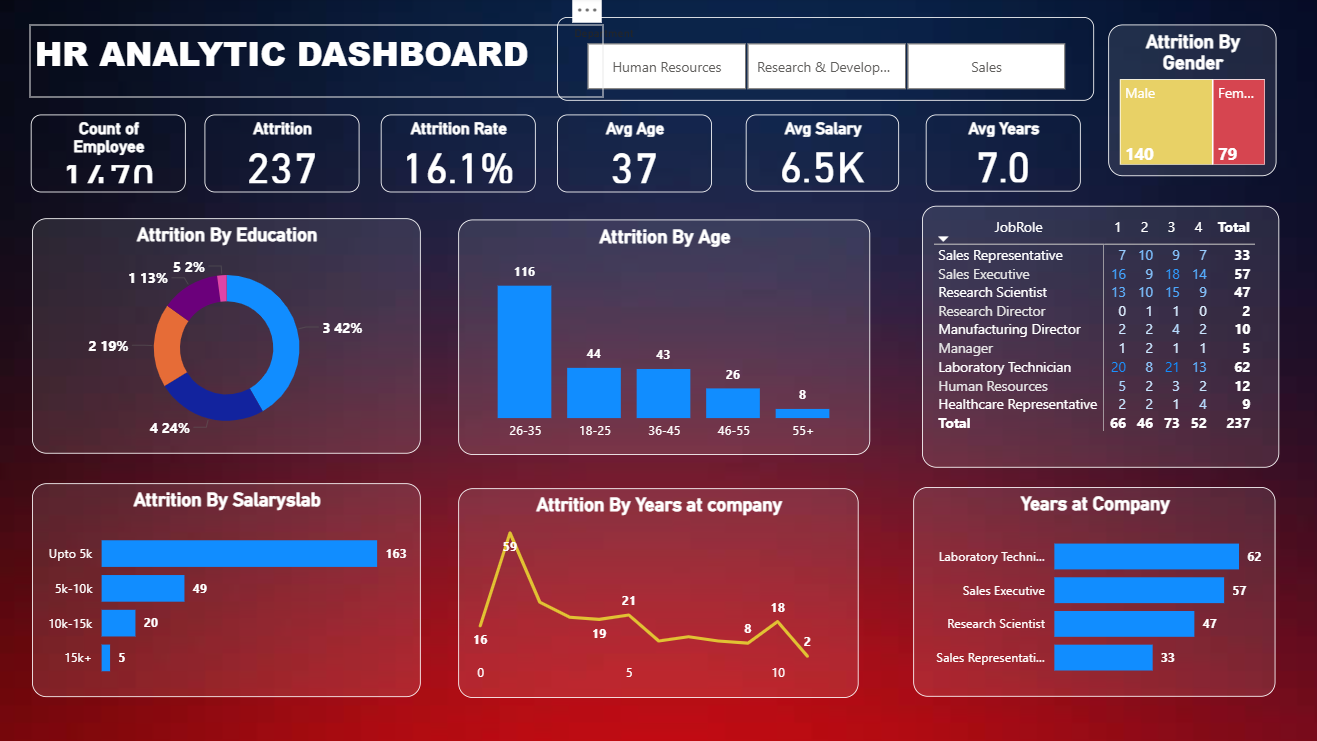

What the dashboard file says about the page in this screenshot:
{"tool":"powerbi","page":{"name":"Page 1","canvas":[1280,720],"ordinal":0},"visuals":[{"type":"card","title":"Count of Employee","fields":{"Values":["CountNonNull(HR_Analytics.EmpID)"]},"box":[32.3,113.8,149.3,75.6],"z":0},{"type":"card","title":"Attrition","fields":{"Values":["Sum(HR_Analytics.AttritionCount)"]},"box":[200.5,113.8,149.3,75.6],"z":1000},{"type":"card","title":"Avg Age","fields":{"Values":["Avg(HR_Analytics.Age)"]},"box":[540.7,113.8,149.3,75.6],"z":2000},{"type":"card","title":"Attrition Rate","fields":{"Values":["HR_Analytics.AttritionRate"]},"box":[370.6,113.8,149.3,75.6],"z":3000},{"type":"card","title":"Avg  Salary","fields":{"Values":["Avg(HR_Analytics.MonthlyIncome)"]},"box":[723.2,113.5,147.9,74.8],"z":4000},{"type":"card","title":"Avg Years","fields":{"Values":["Avg(HR_Analytics.YearsAtCompany)"]},"box":[896.6,113.5,149.5,74.8],"z":5000},{"type":"donutChart","title":"Attrition By Education","fields":{"Category":["HR_Analytics.Education"],"Y":["Sum(HR_Analytics.AttritionCount)"]},"box":[33.4,213.1,375.4,227.5],"z":6000},{"type":"columnChart","title":"Attrition By Age","fields":{"Category":["HR_Analytics.AgeGroup"],"Y":["Sum(HR_Analytics.AttritionCount)"]},"box":[445.4,214.7,397.7,227.5],"z":7000},{"type":"pivotTable","fields":{"Rows":["HR_Analytics.JobRole"],"Columns":["HR_Analytics.JobSatisfaction"],"Values":["Sum(HR_Analytics.AttritionCount)"]},"box":[892.3,202,345.2,252.9],"z":8000},{"type":"barChart","title":"Attrition By Salaryslab","fields":{"Category":["HR_Analytics.SalarySlab"],"Y":["Sum(HR_Analytics.AttritionCount)"]},"box":[33.4,469.2,375.4,206.8],"z":9000},{"type":"barChart","title":"Attrition by Jobrole","fields":{"Category":["HR_Analytics.JobRole"],"Y":["Sum(HR_Analytics.AttritionCount)"]},"box":[884.4,472.4,349.9,202],"z":10000},{"type":"lineChart","title":"Attrition By Years at company","fields":{"Category":["HR_Analytics.YearsAtCompany"],"Y":["Sum(HR_Analytics.AttritionCount)"]},"box":[445.4,474,386.5,202],"z":11000},{"type":"treemap","title":"Attrition By Gender","fields":{"Group":["HR_Analytics.Gender"],"Values":["Sum(HR_Analytics.AttritionCount)"]},"box":[1072.1,27,162.2,146.3],"z":12000},{"type":"slicer","fields":{"Values":["HR_Analytics.Department"]},"box":[540.8,19.1,518.5,81.1],"z":13000},{"type":"textbox","box":[31.8,27,553.5,70],"z":14000}]}

Visuals, with their boxes in screenshot pixels (x1, y1, x2, y2), scaled from the page's 1280x720 canvas onto the 1317x741 screenshot:
"Count of Employee" card: bbox(33, 117, 187, 195)
"Attrition" card: bbox(206, 117, 360, 195)
"Avg Age" card: bbox(556, 117, 710, 195)
"Attrition Rate" card: bbox(381, 117, 535, 195)
"Avg  Salary" card: bbox(744, 117, 896, 194)
"Avg Years" card: bbox(923, 117, 1076, 194)
"Attrition By Education" donutChart: bbox(34, 219, 421, 453)
"Attrition By Age" columnChart: bbox(458, 221, 867, 455)
pivotTable - HR_Analytics.JobRole x HR_Analytics.JobSatisfaction: bbox(918, 208, 1273, 468)
"Attrition By Salaryslab" barChart: bbox(34, 483, 421, 696)
"Attrition by Jobrole" barChart: bbox(910, 486, 1270, 694)
"Attrition By Years at company" lineChart: bbox(458, 488, 856, 696)
"Attrition By Gender" treemap: bbox(1103, 28, 1270, 178)
slicer - HR_Analytics.Department: bbox(556, 20, 1090, 103)
textbox: bbox(33, 28, 602, 100)
